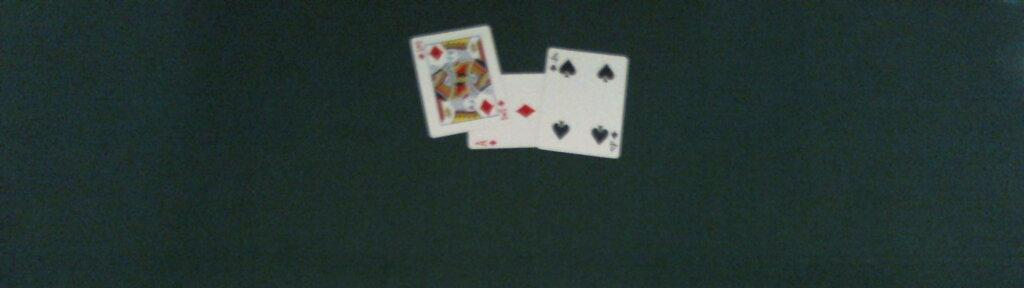ace: (466, 72, 548, 149)
four: (538, 45, 627, 159)
king: (409, 25, 514, 138)
